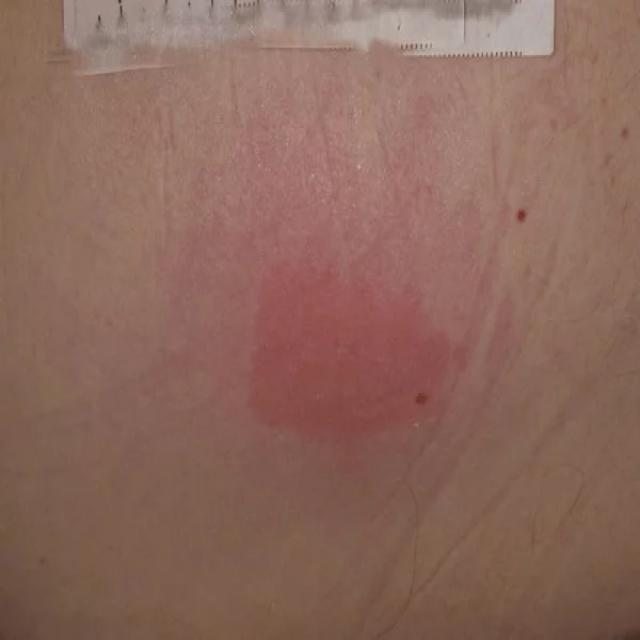stage-1: (248, 262, 443, 443)
